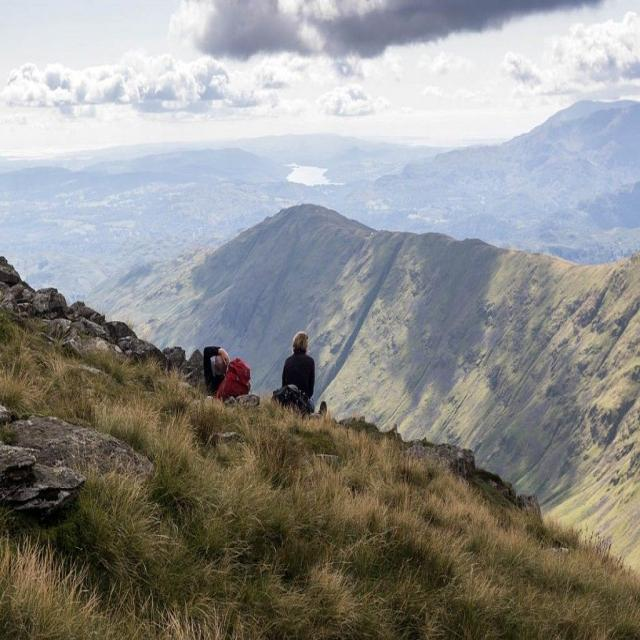loitering: (276, 337, 322, 412), (205, 337, 249, 410)
